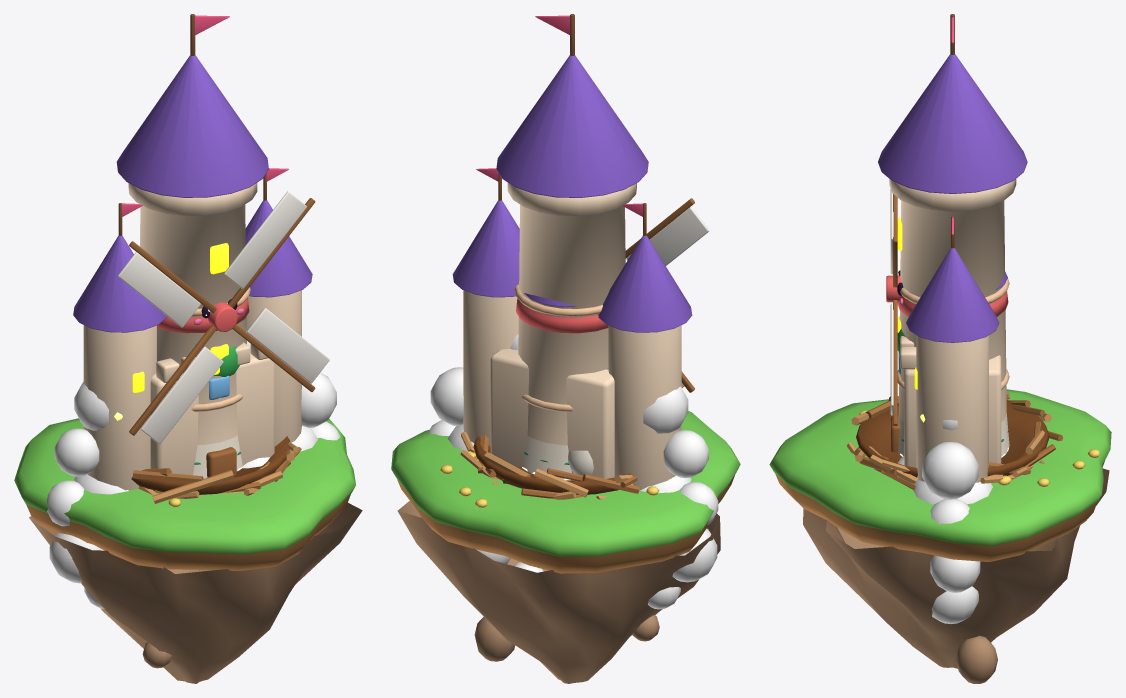
Rendered from world.glb.
3 renders of one model, left to right at view 1: azimuth 30°, elevation 25°; view 2: azimuth 150°, elevation 25°; view 3: azimuth 270°, elevation 25°, orthographic. The views are drawn at different scales.
Parts seen in each view (by area): view 1: island_top, island_pebble, castle_keep, tower_cone, tower_body, windmill_sailcloth_0, castle_cone_-1, hoop_ring, island_soil, windmill_spar_0, nest, nest_bowl (+7 smaller); view 2: castle_keep, island_pebble, island_top, tower_body, tower_cone, castle_cone_-1, hoop_ring, island_soil, nest, windmill_sailcloth_0, nest_bowl, windmill_cap (+4 smaller); view 3: island_top, island_pebble, tower_cone, castle_keep, tower_body, hoop_ring, castle_cone_-1, island_soil, nest_bowl, nest, windmill_spar_0, cloud_puffs (+2 smaller).
Boxes of the visible parts, bbox=[...] form: island_top: bbox=[14, 418, 355, 554]; island_pebble: bbox=[29, 503, 362, 683]; castle_keep: bbox=[83, 290, 301, 490]; tower_cone: bbox=[116, 55, 268, 197]; tower_body: bbox=[128, 183, 257, 444]; windmill_sailcloth_0: bbox=[118, 191, 329, 444]; castle_cone_-1: bbox=[73, 200, 312, 332]; hoop_ring: bbox=[46, 332, 340, 608]; island_soil: bbox=[26, 494, 350, 570]; windmill_spar_0: bbox=[129, 198, 315, 435]; nest: bbox=[133, 442, 301, 503]; nest_bowl: bbox=[131, 436, 290, 494]; castle_keep: bbox=[463, 290, 681, 490]; island_pebble: bbox=[397, 501, 720, 683]; island_top: bbox=[391, 411, 740, 556]; tower_body: bbox=[507, 183, 636, 445]; tower_cone: bbox=[496, 55, 648, 197]; castle_cone_-1: bbox=[452, 200, 692, 332]; hoop_ring: bbox=[428, 334, 718, 609]; island_soil: bbox=[397, 475, 734, 573]; nest: bbox=[460, 432, 639, 499]; windmill_sailcloth_0: bbox=[626, 207, 709, 387]; nest_bowl: bbox=[473, 436, 631, 494]; windmill_cap: bbox=[516, 298, 608, 333]; island_top: bbox=[769, 389, 1111, 545]; island_pebble: bbox=[803, 468, 1109, 683]; tower_cone: bbox=[878, 54, 1027, 193]; castle_keep: bbox=[900, 335, 1001, 482]; tower_body: bbox=[889, 179, 1016, 421]; hoop_ring: bbox=[922, 420, 980, 623]; castle_cone_-1: bbox=[906, 248, 1007, 342]; island_soil: bbox=[775, 461, 1104, 561]; nest_bowl: bbox=[856, 400, 1049, 477]; nest: bbox=[847, 391, 1062, 489]; windmill_spar_0: bbox=[893, 194, 897, 425]; cloud_puffs: bbox=[898, 456, 992, 504].
Size of the model in its own units: 5.78 by 11.9 by 5.65.
